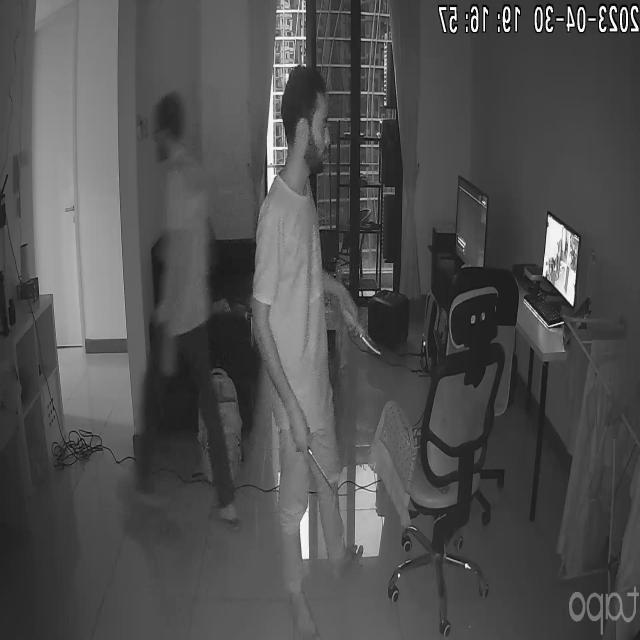Knife: (291, 438, 339, 498), (341, 307, 386, 360)
